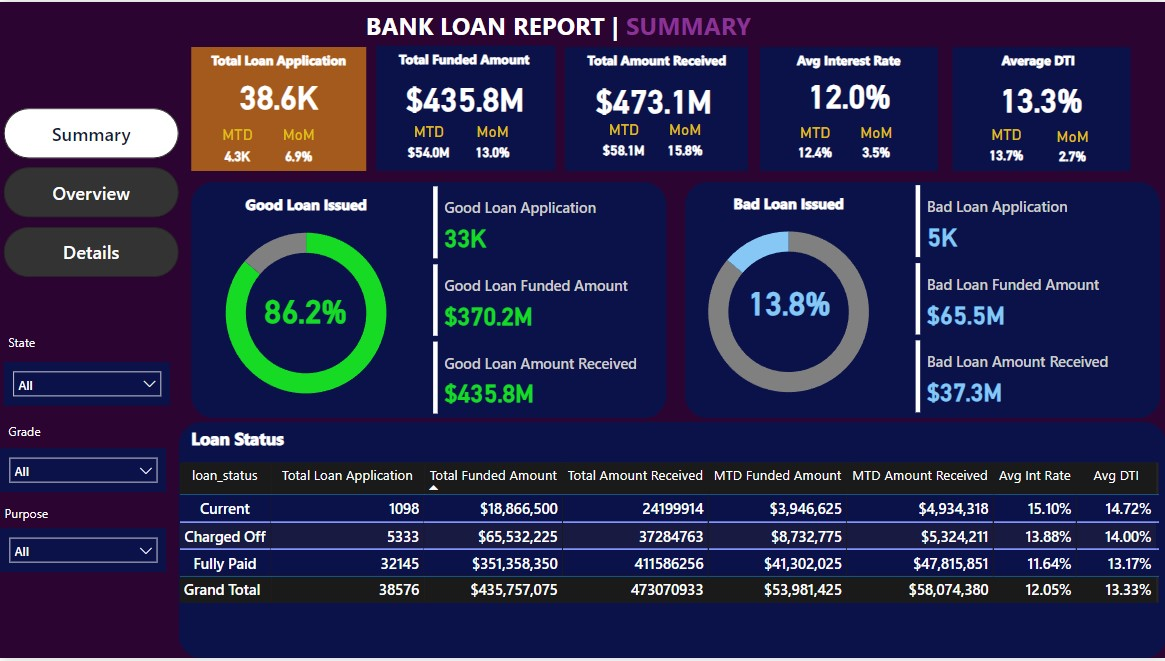

What the dashboard file says about the page in this screenshot:
{"tool":"powerbi","page":{"name":"Summary","canvas":[1280,720],"ordinal":0},"visuals":[{"type":"shape","box":[196.2,461.1,1084.1,259.3],"z":1000},{"type":"shape","box":[211.4,50,184.9,133.5],"z":2000,"group":"g1"},{"type":"shape","box":[413,52,194.9,133.1],"z":2000,"group":"g2"},{"type":"shape","box":[623.7,79.4,194.9,105.2],"z":2000,"group":"g3"},{"type":"shape","box":[1045.6,80.9,194.9,103.5],"z":2000,"group":"g5"},{"type":"shape","box":[834.3,84,194.9,101.2],"z":2000,"group":"g4"},{"type":"shape","box":[209.9,197.6,521.4,259.3],"z":2000},{"type":"textbox","box":[396.6,2.7,462.4,46.7],"z":4000},{"type":"card","fields":{"Values":["bank_loan.Total Loan Application"]},"box":[209.9,79.3,192.1,45.6],"z":4000,"group":"g1"},{"type":"card","fields":{"Values":["bank_loan.Average Interset Rate"]},"box":[836.6,79.7,190.7,43.3],"z":4000,"group":"g4"},{"type":"card","fields":{"Values":["bank_loan.Total Fund"]},"box":[413.2,81.2,194.9,48],"z":4000,"group":"g2"},{"type":"card","fields":{"Values":["Sum(bank_loan.total_payment)"]},"box":[620.2,81.7,194.9,48],"z":4000,"group":"g3"},{"type":"card","fields":{"Values":["bank_loan.Avg DTI"]},"box":[1047.5,82.5,192.1,46.1],"z":4000,"group":"g5"},{"type":"textbox","box":[413.2,48.3,196.2,41.2],"z":5000,"group":"g2"},{"type":"textbox","box":[621.3,48.8,199,28.8],"z":5000,"group":"g3"},{"type":"group","id":"g1","title":"Group 1","box":[209.9,49.4,192.1,135.8],"z":5000},{"type":"textbox","box":[209.9,49.4,192.1,42.7],"z":5000,"group":"g1"},{"type":"textbox","box":[838,49.4,186.6,33.2],"z":5000,"group":"g4"},{"type":"textbox","box":[1046.1,49.4,192.1,33.1],"z":5000,"group":"g5"},{"type":"card","title":"MTD","fields":{"Values":["bank_loan.MTD Amount Received"]},"box":[644.3,130,79.6,49.2],"z":6000,"group":"g3"},{"type":"card","title":"MTD","fields":{"Values":["bank_loan.MTD Funded Amount"]},"box":[430.5,132.1,79.6,43.9],"z":6000,"group":"g2"},{"type":"card","title":"MTD","fields":{"Values":["bank_loan.MTD Average int_rate"]},"box":[855,132.7,79.6,47.3],"z":6000,"group":"g4"},{"type":"card","title":"MTD","fields":{"Values":["bank_loan.MTD LOAN APPLICATION"]},"box":[220.6,135.7,79.4,49.6],"z":6000,"group":"g1"},{"type":"card","title":"MTD","fields":{"Values":["bank_loan.MTD DTI"]},"box":[1065.3,136.2,79.6,47.6],"z":6000,"group":"g5"},{"type":"textbox","box":[4.1,359.5,192.1,30.2],"z":6000},{"type":"card","title":"MoM","fields":{"Values":["bank_loan.MOM Amount Received"]},"box":[711.5,130,79.6,49.2],"z":7000,"group":"g3"},{"type":"card","title":"MoM","fields":{"Values":["bank_loan.MOM Fund Amount"]},"box":[500.5,132.1,79.6,43.9],"z":7000,"group":"g2"},{"type":"card","title":"MoM","fields":{"Values":["bank_loan.MOM Average Int Rate"]},"box":[922.2,132.7,79.6,47.3],"z":7000,"group":"g4"},{"type":"card","title":"MoM","fields":{"Values":["bank_loan.MOM loan Application"]},"box":[287.7,135.7,79.4,49.6],"z":7000,"group":"g1"},{"type":"card","title":"MoM","fields":{"Values":["bank_loan.MOM Avg DTI"]},"box":[1138,137.6,79.6,47.6],"z":7000,"group":"g5"},{"type":"textbox","box":[240.1,205.8,192.1,42.5],"z":7000},{"type":"group","id":"g2","title":"Group 1","box":[413,48.3,196.4,136.8],"z":8000},{"type":"group","id":"g3","title":"Group 1","box":[620.2,48.8,200,135.8],"z":9000},{"type":"donutChart","fields":{"Category":["bank_loan.Good Loan vs Bad Loan"],"Y":["bank_loan.Total Loan Application"]},"box":[211.3,226.4,249.7,230.5],"z":10000},{"type":"group","id":"g4","title":"Group 1","box":[834.3,49.4,194.9,135.8],"z":11000},{"type":"group","id":"g5","title":"Group 1","box":[1045.6,49.4,194.9,135.8],"z":12000},{"type":"shape","box":[752,197.6,521.4,259.3],"z":13000},{"type":"card","fields":{"Values":["bank_loan.Good Loan Percentage"]},"box":[240.1,315.6,190.7,43.9],"z":14000},{"type":"cardVisual","fields":{"Data":["bank_loan.Good Loan Application","bank_loan.Good Loan Funded Amount","bank_loan.Good Loan Amount Received"]},"box":[470.7,197.6,251.1,259.3],"z":15000},{"type":"textbox","box":[769.4,204.9,192.1,42.5],"z":16000},{"type":"donutChart","fields":{"Category":["bank_loan.Good Loan vs Bad Loan"],"Y":["bank_loan.Total Loan Application"]},"box":[740.6,225.4,249.7,230.5],"z":17000},{"type":"cardVisual","fields":{"Data":["bank_loan.Bad Loan Application","bank_loan.Bad Loan Funded Amount","bank_loan.Bad Loan Amount Received"]},"box":[999.9,196.6,251.1,259.3],"z":18000},{"type":"card","fields":{"Values":["bank_loan.Bad Loan Percentage"]},"box":[771.2,306,190.7,43.9],"z":19000},{"type":"tableEx","fields":{"Values":["bank_loan.loan_status","bank_loan.Total Loan Application","bank_loan.Total Fund","bank_loan.Total Amount Received","bank_loan.MTD Funded Amount","bank_loan.MTD Amount Received","bank_loan.Average Interset Rate","bank_loan.Avg DTI"]},"box":[193.5,500.9,1086.8,219.6],"z":20000},{"type":"textbox","box":[164.7,461.1,192.1,42.5],"z":21000},{"type":"slicer","fields":{"Values":["bank_loan.address_state"]},"box":[4.1,395.2,182.5,48],"z":22000},{"type":"textbox","box":[4.1,457,192.1,30.2],"z":23000},{"type":"tableEx","fields":{"Values":["bank_loan.loan_status","bank_loan.Total Loan Application","bank_loan.Total Fund","bank_loan.Total Amount Received","bank_loan.MTD Funded Amount","bank_loan.MTD Amount Received","bank_loan.Average Interset Rate","bank_loan.Avg DTI"]},"box":[191.4,500.4,1086.8,219.6],"z":24000},{"type":"slicer","fields":{"Values":["bank_loan.grade"]},"box":[0,489.3,182.5,48],"z":25000},{"type":"slicer","fields":{"Values":["bank_loan.purpose"]},"box":[0,577.2,182.5,48],"z":26000},{"type":"textbox","box":[0,547,192.1,30.2],"z":27000},{"type":"pageNavigator","box":[4.1,116.6,192.1,185.2],"z":27001}]}

Visuals, with their boxes in screenshot pixels (x1, y1, x2, y2), scaled from the page's 1280x720 canvas onto the 1165x661 screenshot:
shape: region(179, 423, 1164, 660)
shape: region(192, 46, 361, 168)
shape: region(376, 48, 553, 170)
shape: region(568, 73, 745, 169)
shape: region(952, 74, 1129, 169)
shape: region(759, 77, 937, 170)
shape: region(191, 181, 666, 419)
textbox: region(361, 2, 782, 45)
card - bank_loan.Total Loan Application: region(191, 73, 366, 115)
card - bank_loan.Average Interset Rate: region(761, 73, 935, 113)
card - bank_loan.Total Fund: region(376, 75, 553, 119)
card - Sum(bank_loan.total_payment): region(564, 75, 742, 119)
card - bank_loan.Avg DTI: region(953, 76, 1128, 118)
textbox: region(376, 44, 555, 82)
textbox: region(565, 45, 747, 71)
"Group 1" group: region(191, 45, 366, 170)
textbox: region(191, 45, 366, 85)
textbox: region(763, 45, 933, 76)
textbox: region(952, 45, 1127, 76)
"MTD" card: region(586, 119, 659, 165)
"MTD" card: region(392, 121, 464, 162)
"MTD" card: region(778, 122, 851, 165)
"MTD" card: region(201, 125, 273, 170)
"MTD" card: region(970, 125, 1042, 169)
textbox: region(4, 330, 179, 358)
"MoM" card: region(648, 119, 720, 165)
"MoM" card: region(456, 121, 528, 162)
"MoM" card: region(839, 122, 912, 165)
"MoM" card: region(262, 125, 334, 170)
"MoM" card: region(1036, 126, 1108, 170)
textbox: region(219, 189, 393, 228)
"Group 1" group: region(376, 44, 555, 170)
"Group 1" group: region(564, 45, 747, 169)
donutChart - bank_loan.Good Loan vs Bad Loan x bank_loan.Total Loan Application: region(192, 208, 420, 419)
"Group 1" group: region(759, 45, 937, 170)
"Group 1" group: region(952, 45, 1129, 170)
shape: region(684, 181, 1159, 419)
card - bank_loan.Good Loan Percentage: region(219, 290, 392, 330)
cardVisual - bank_loan.Good Loan Application x bank_loan.Good Loan Funded Amount: region(428, 181, 657, 419)
textbox: region(700, 188, 875, 227)
donutChart - bank_loan.Good Loan vs Bad Loan x bank_loan.Total Loan Application: region(674, 207, 901, 419)
cardVisual - bank_loan.Bad Loan Application x bank_loan.Bad Loan Funded Amount: region(910, 180, 1139, 419)
card - bank_loan.Bad Loan Percentage: region(702, 281, 875, 321)
tableEx - bank_loan.loan_status x bank_loan.Total Loan Application: region(176, 460, 1164, 660)
textbox: region(150, 423, 325, 462)
slicer - bank_loan.address_state: region(4, 363, 170, 407)
textbox: region(4, 420, 179, 447)
tableEx - bank_loan.loan_status x bank_loan.Total Loan Application: region(174, 459, 1163, 660)
slicer - bank_loan.grade: region(0, 449, 166, 493)
slicer - bank_loan.purpose: region(0, 530, 166, 574)
textbox: region(0, 502, 175, 530)
pageNavigator: region(4, 107, 179, 277)
